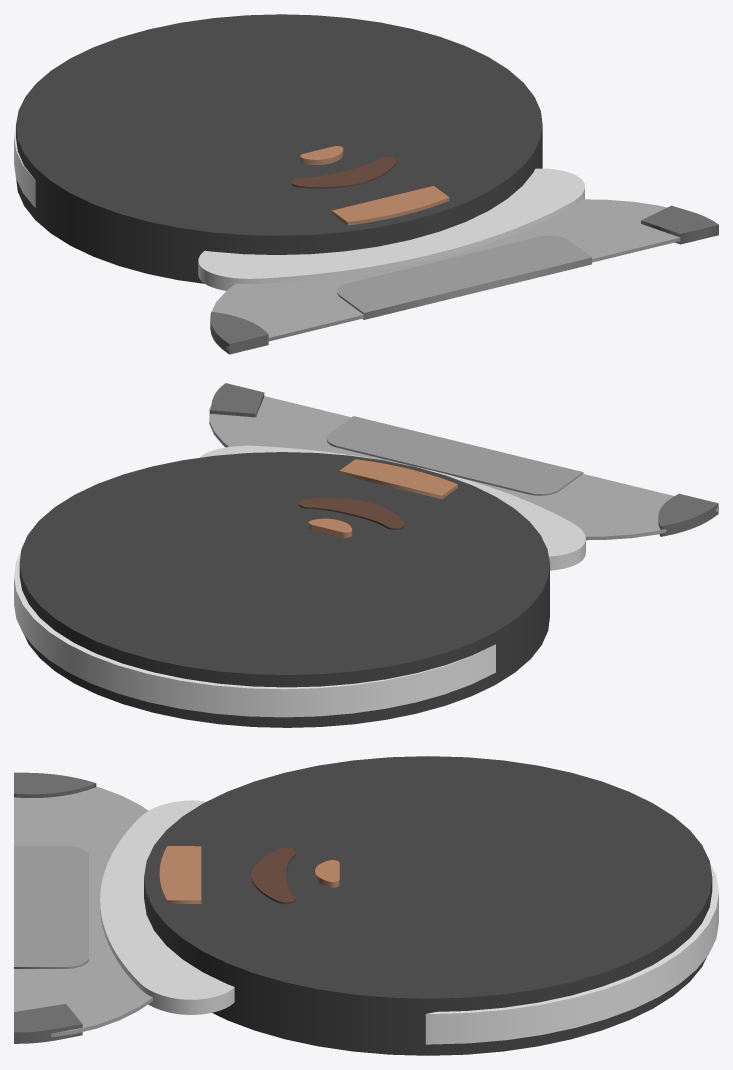
The model's file is emoji_u1f469_1f3fc_200d_1f680.glb.
The picture shows the model from 3 angles, top to bottom: view 1: azimuth 30°, elevation 25°; view 2: azimuth 150°, elevation 25°; view 3: azimuth 270°, elevation 25°; orthographic projection. The views are drawn at different scales.
Visible parts, largest first — view 1: emoji_u1f469_1f3fc_200d_1f680; view 2: emoji_u1f469_1f3fc_200d_1f680; view 3: emoji_u1f469_1f3fc_200d_1f680.
Part boxes in pixels (x1,y1,x2,y2): emoji_u1f469_1f3fc_200d_1f680: (14,14,718,354); emoji_u1f469_1f3fc_200d_1f680: (14,383,718,727); emoji_u1f469_1f3fc_200d_1f680: (14,756,718,1055).
Bounding box in the file's own units: 0.0293 × 0.0036 × 0.0336.
